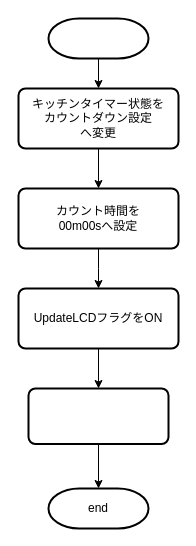
Image size: 196x546. Some labels were removed from this diagram. Each missing label, with the box of its shape:
タイマレジスタのクリア: (27, 387, 169, 444)
リセット処理: (47, 17, 149, 59)
